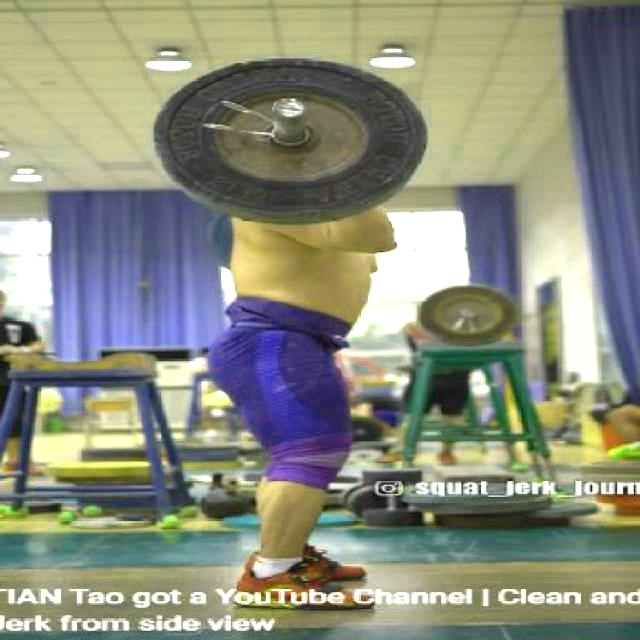barbell: (141, 50, 442, 230)
